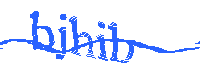b: (110, 23, 135, 65), (30, 9, 53, 52)
h: (68, 16, 96, 60)
i: (95, 18, 111, 64)
j: (56, 13, 67, 64)
